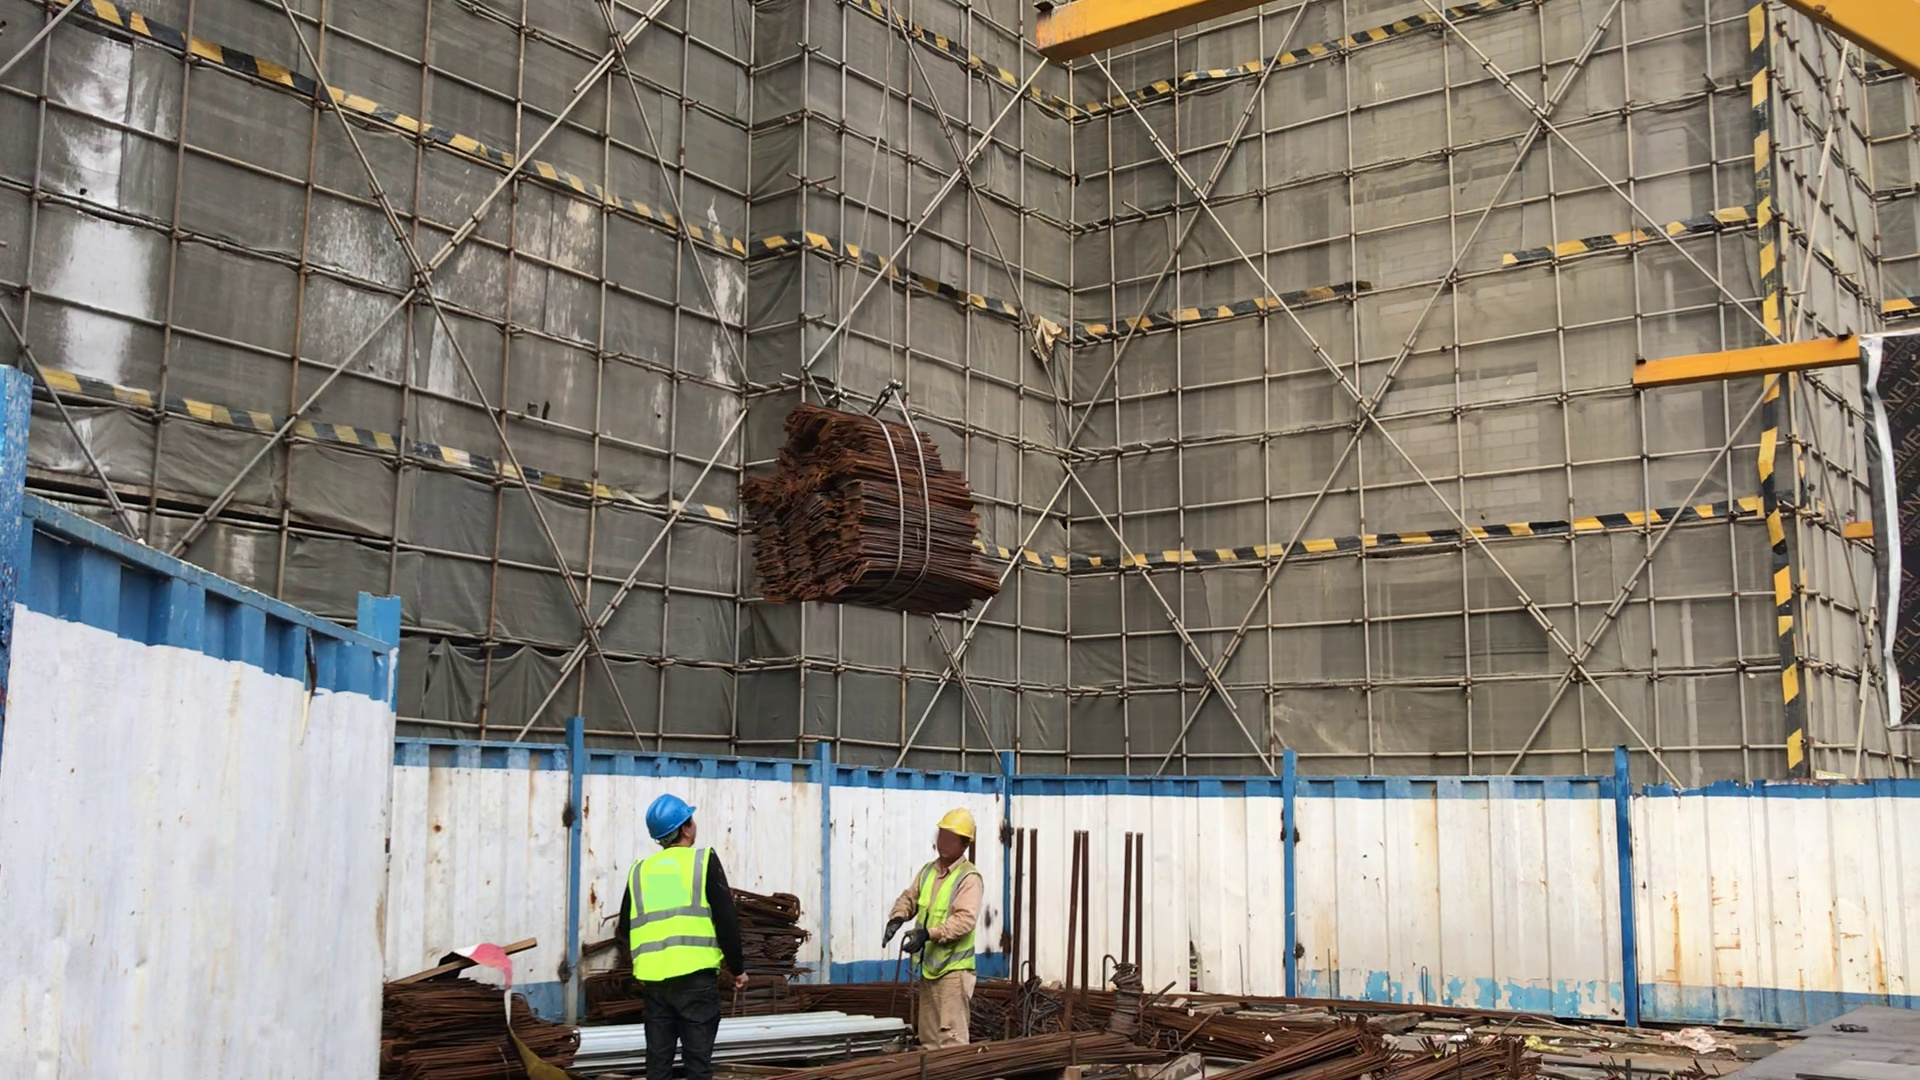helmet: (641, 794, 695, 831), (938, 804, 977, 840)
person: (614, 790, 746, 1080), (882, 813, 988, 1050)
rebar: (757, 1016, 1137, 1080), (1223, 1013, 1386, 1080), (1387, 1046, 1545, 1080)
vest: (621, 848, 722, 978), (912, 854, 982, 961)
